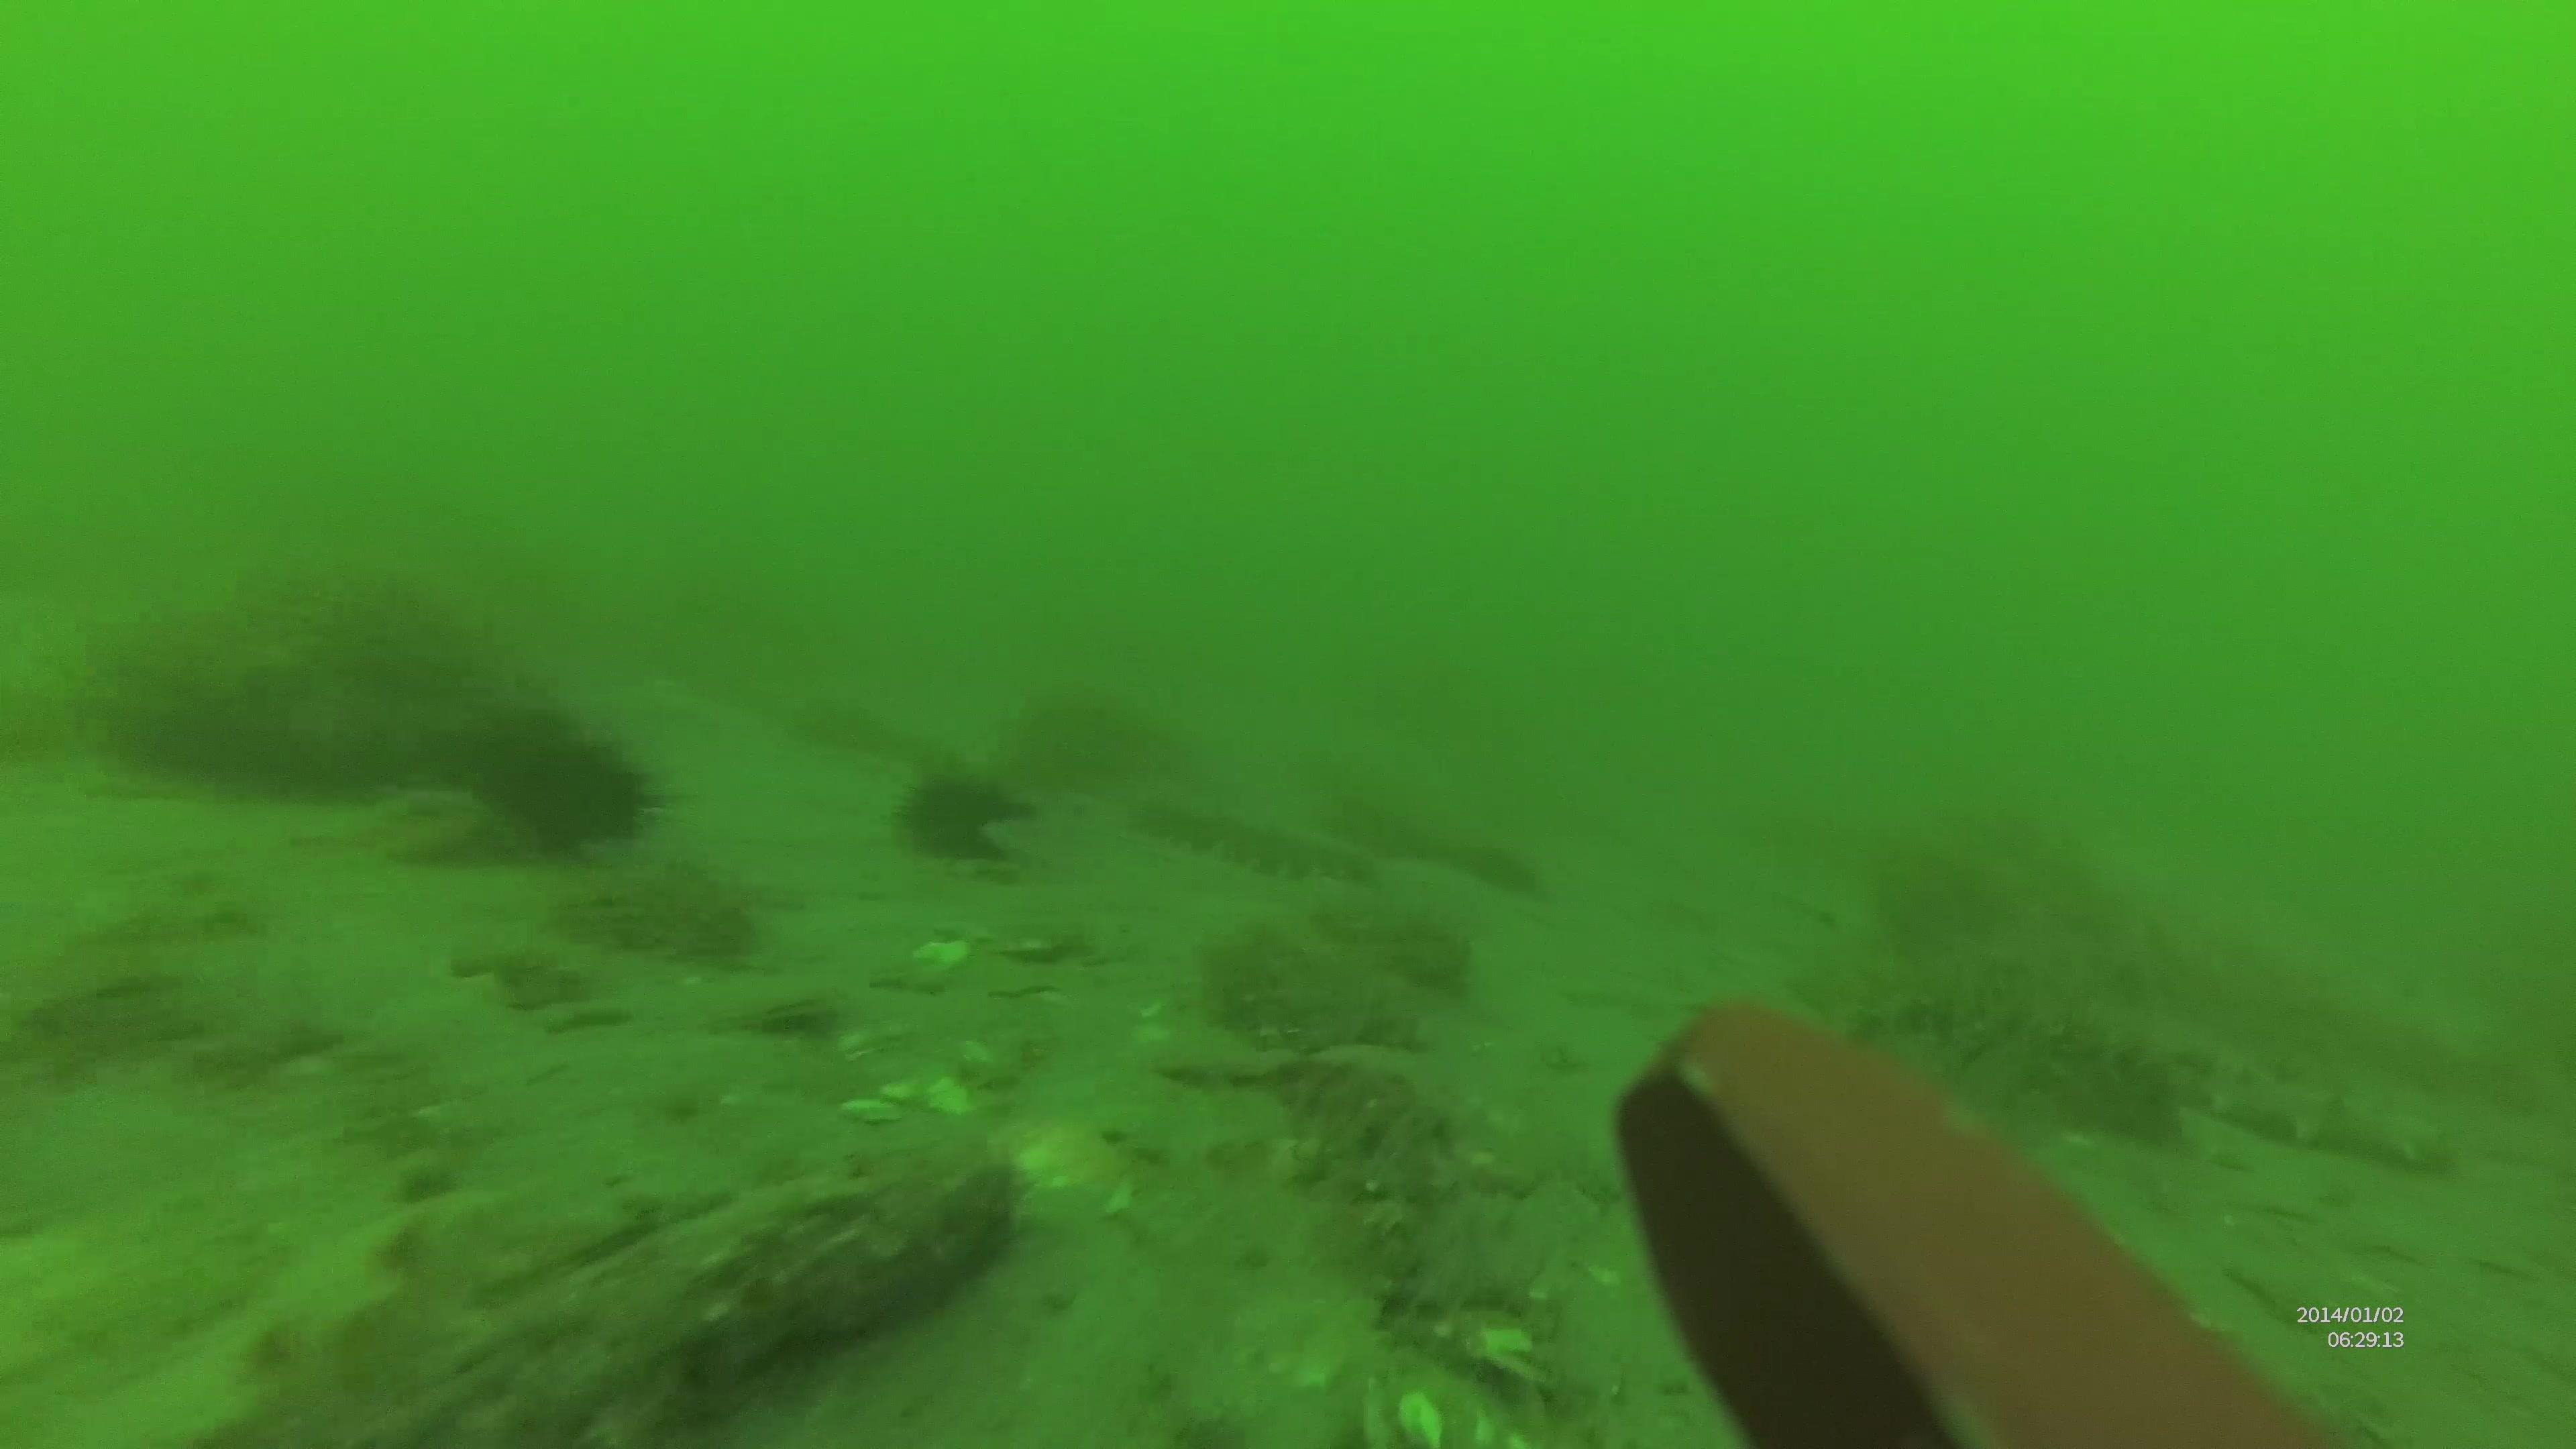echinus: (460, 722, 669, 860), (897, 766, 1053, 874)
holothurian: (2082, 1024, 2465, 1171), (1131, 780, 1378, 888)
